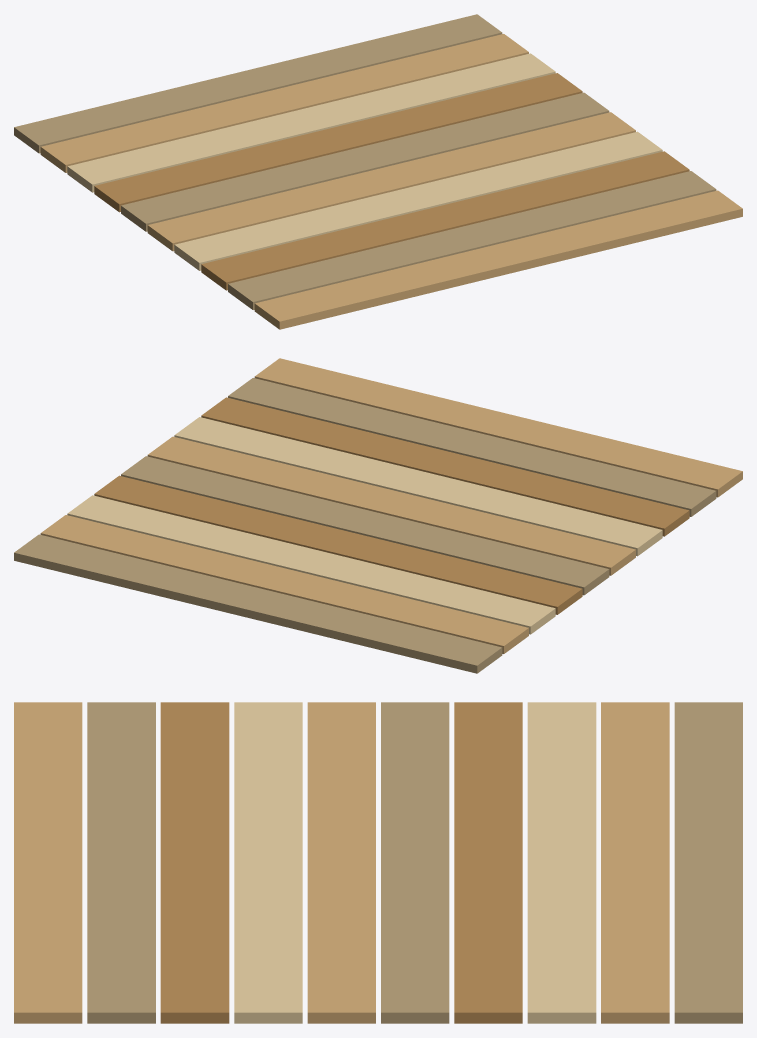
File: con_deck_wood.glb
3 views of the same model, one above another, from view 1: azimuth 30°, elevation 25°; view 2: azimuth 150°, elevation 25°; view 3: azimuth 270°, elevation 25° (orthographic). The views are drawn at different scales.
Visible parts, largest first — view 1: con_deck_wood; view 2: con_deck_wood; view 3: con_deck_wood.
Boxes of the visible parts, x1,y1,x2,y2 form: con_deck_wood: (14, 14, 742, 329); con_deck_wood: (14, 358, 742, 673); con_deck_wood: (14, 702, 742, 1023).
Bounding box in the file's own units: 3 × 0.05 × 2.98.
